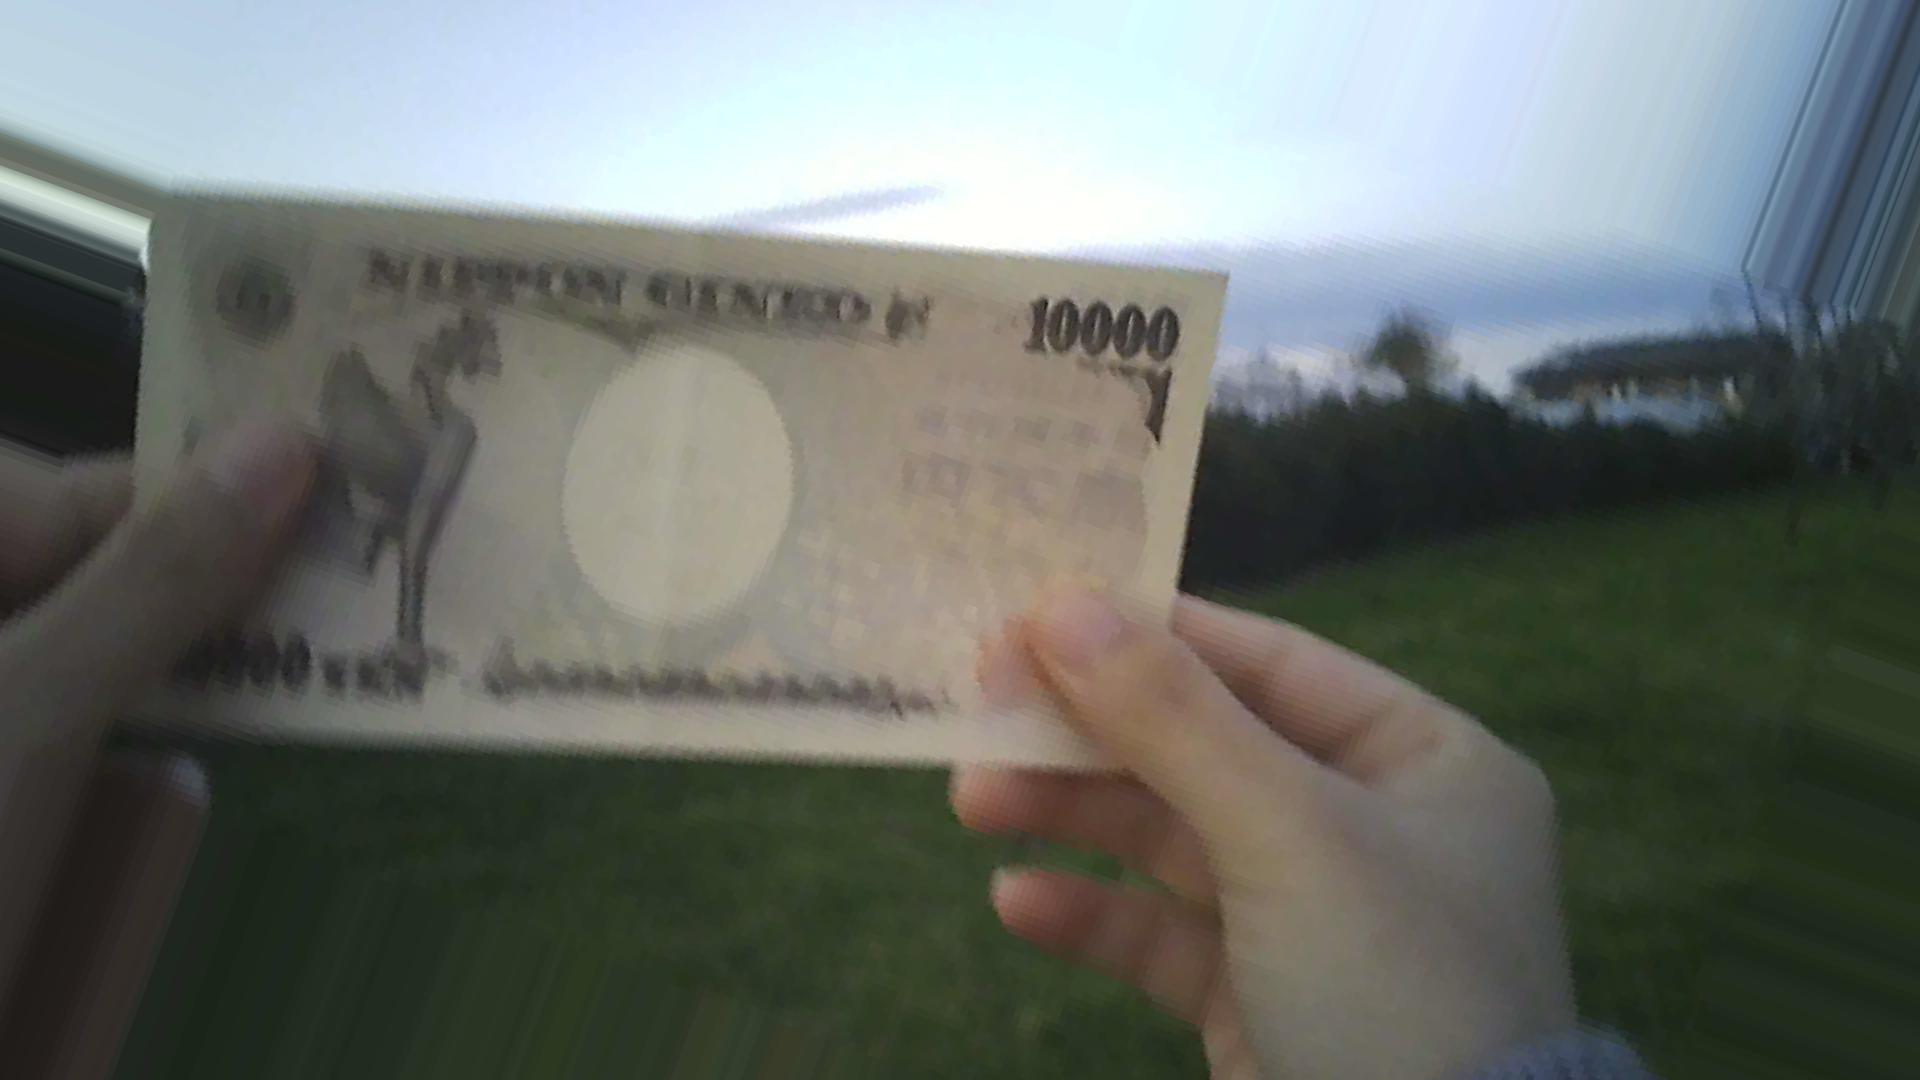10,000 Yen: (119, 179, 1251, 802)
